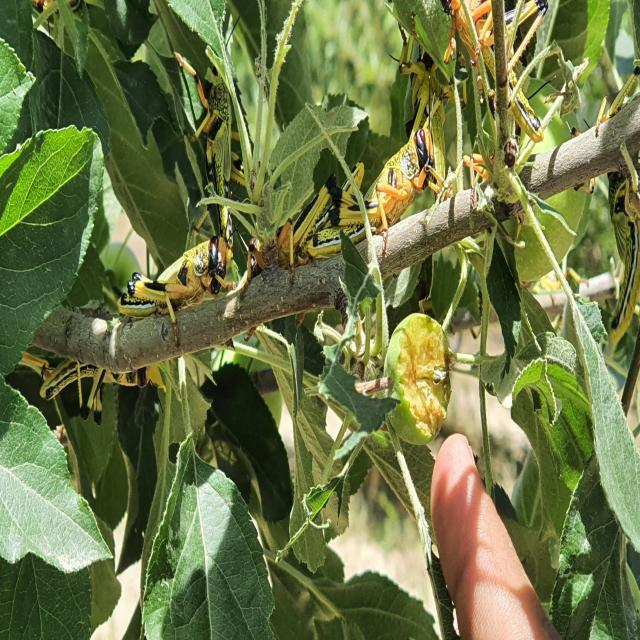ZhaMeng: (305, 123, 438, 269), (118, 233, 229, 328), (198, 64, 244, 252), (605, 155, 639, 356)
